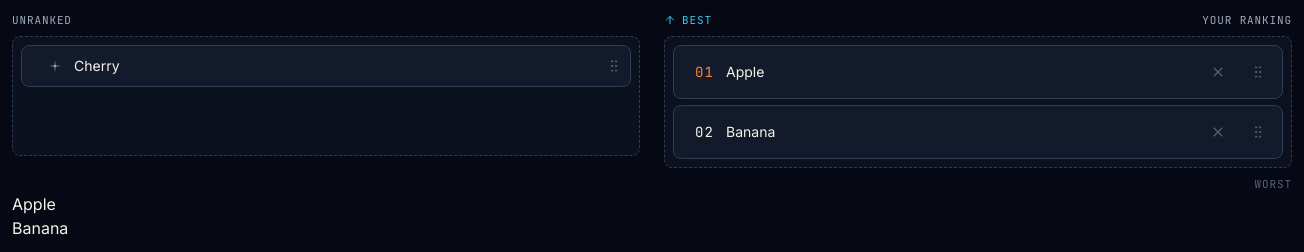
Sortable › unranks a ranked item to the bottom of the unranked list via the × button
Click the button named "Unrank Apple" at (1218, 72), box [1202,56,1234,88]
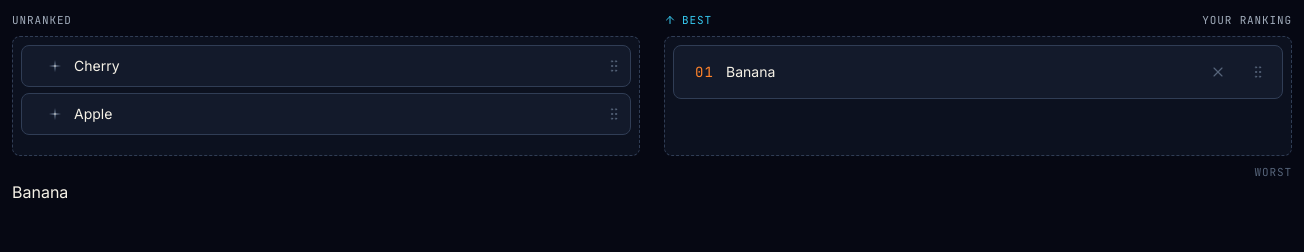
Expected: the button with aria-label "Rank Apple" is shown, [22,94,594,134]
Result: the list with test id "committed" reads "Banana" at [12,182,68,202]
